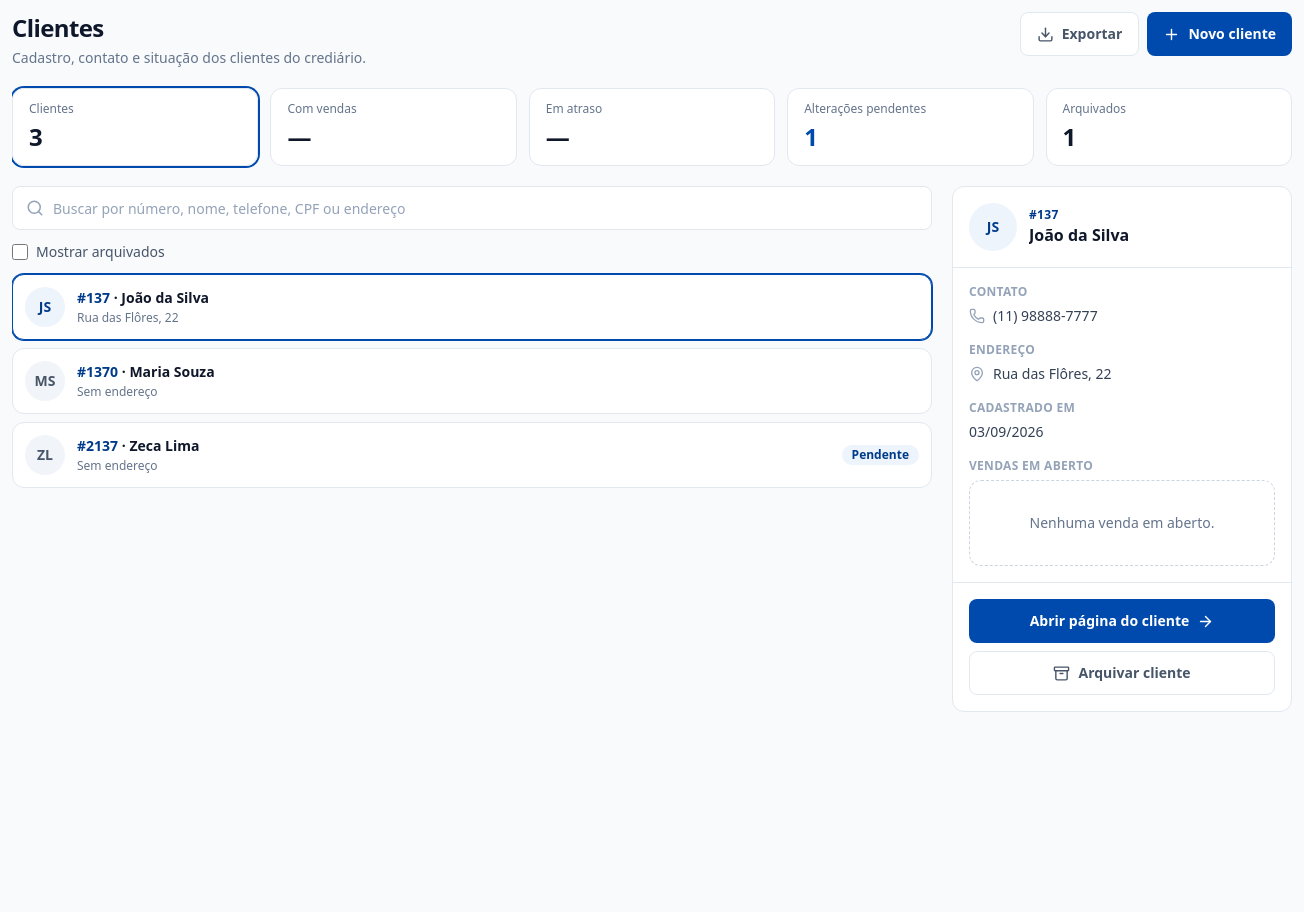
Test: ClientesPage — contadores e filtros › confiança parcial mostra os números e o aviso; erro do carnê também aparece
Click the button "Com vendas —": (394, 127) left=270, top=88, right=517, bottom=166
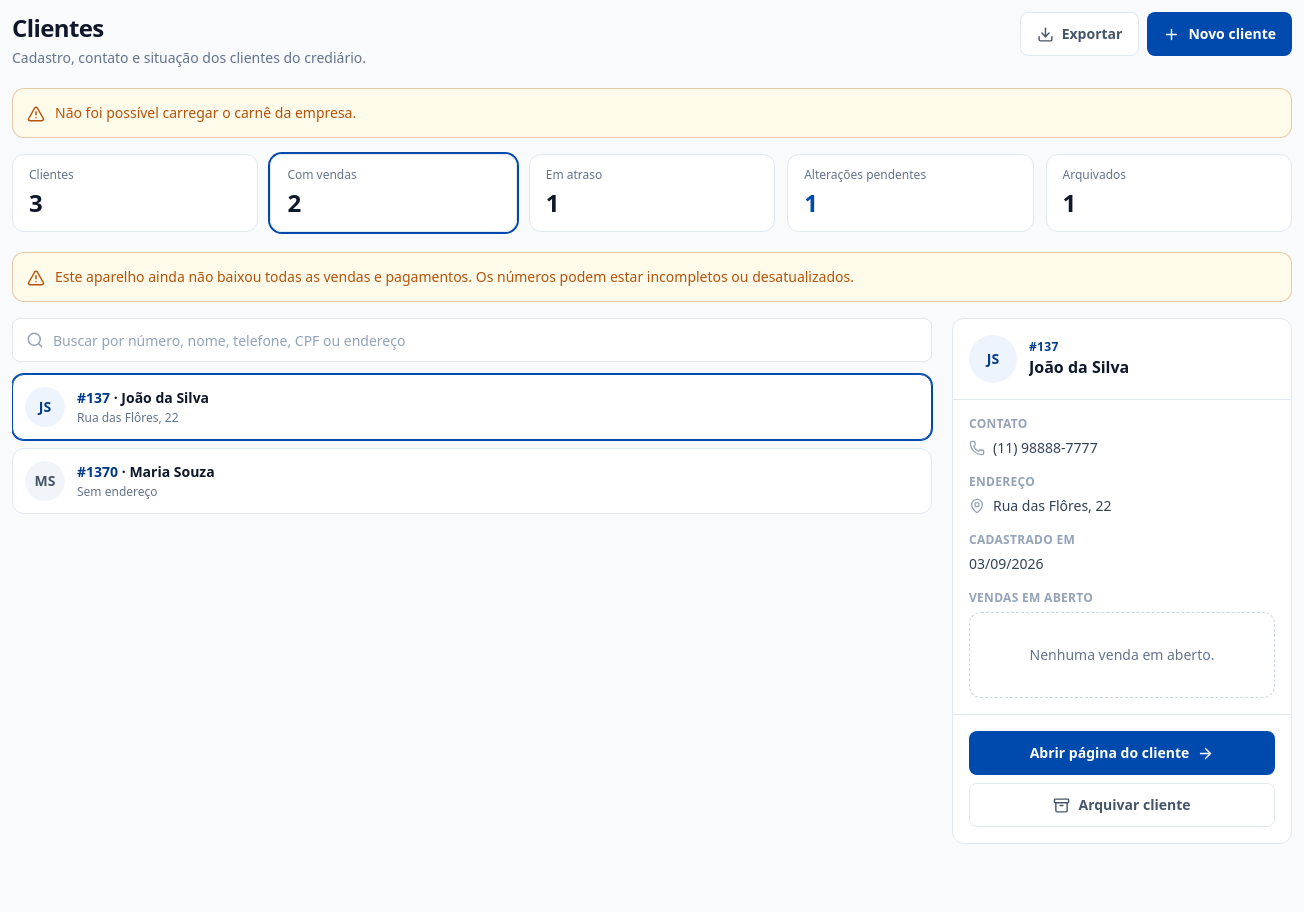
expect the button "Em atraso 1" is shown: met, box left=529, top=154, right=775, bottom=232
expect the text "Este aparelho ainda não baixou todas as vendas e pagamentos" is shown: met, box left=55, top=267, right=854, bottom=286
expect the text "Não foi possível carregar o carnê da empresa." is shown: met, box left=55, top=103, right=356, bottom=122
